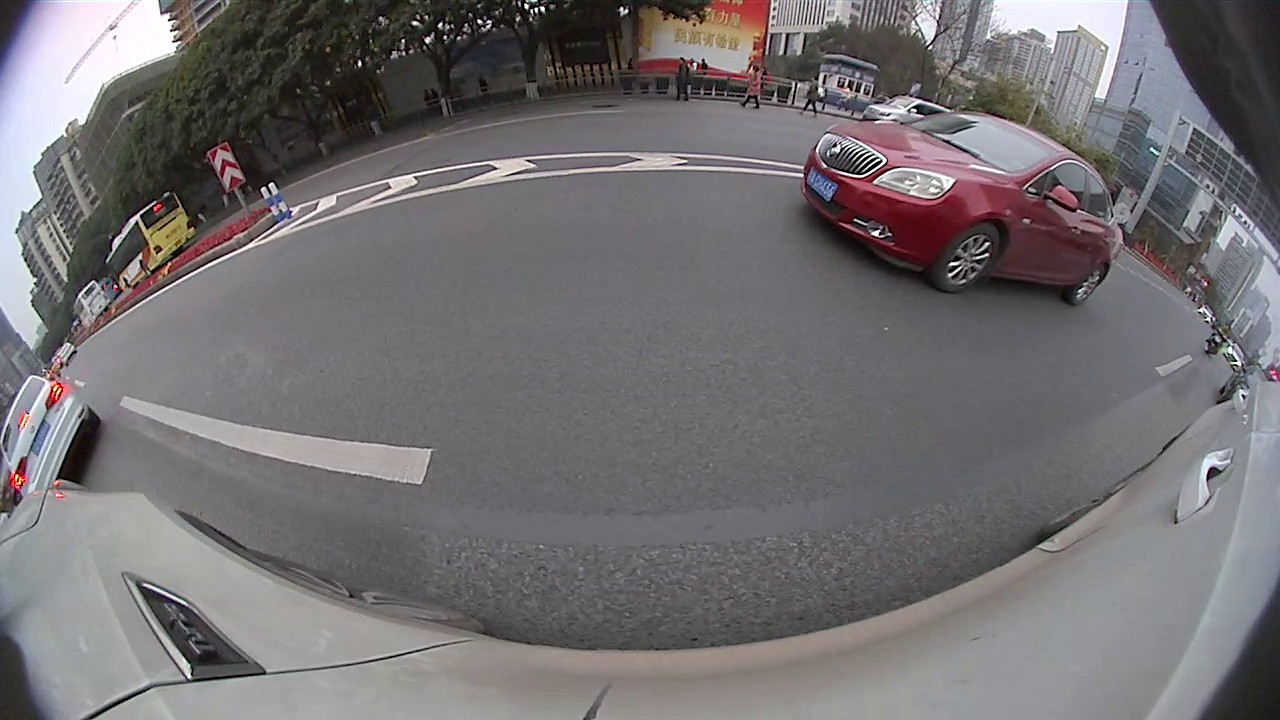bus: (102, 190, 197, 290), (72, 277, 109, 326)
car: (798, 108, 1125, 309), (1, 371, 97, 498), (865, 94, 954, 127), (1223, 353, 1267, 411)
front: (936, 222, 1001, 293)
person: (750, 65, 761, 111), (678, 56, 688, 101), (809, 75, 818, 116)
rear: (1072, 267, 1103, 306)
